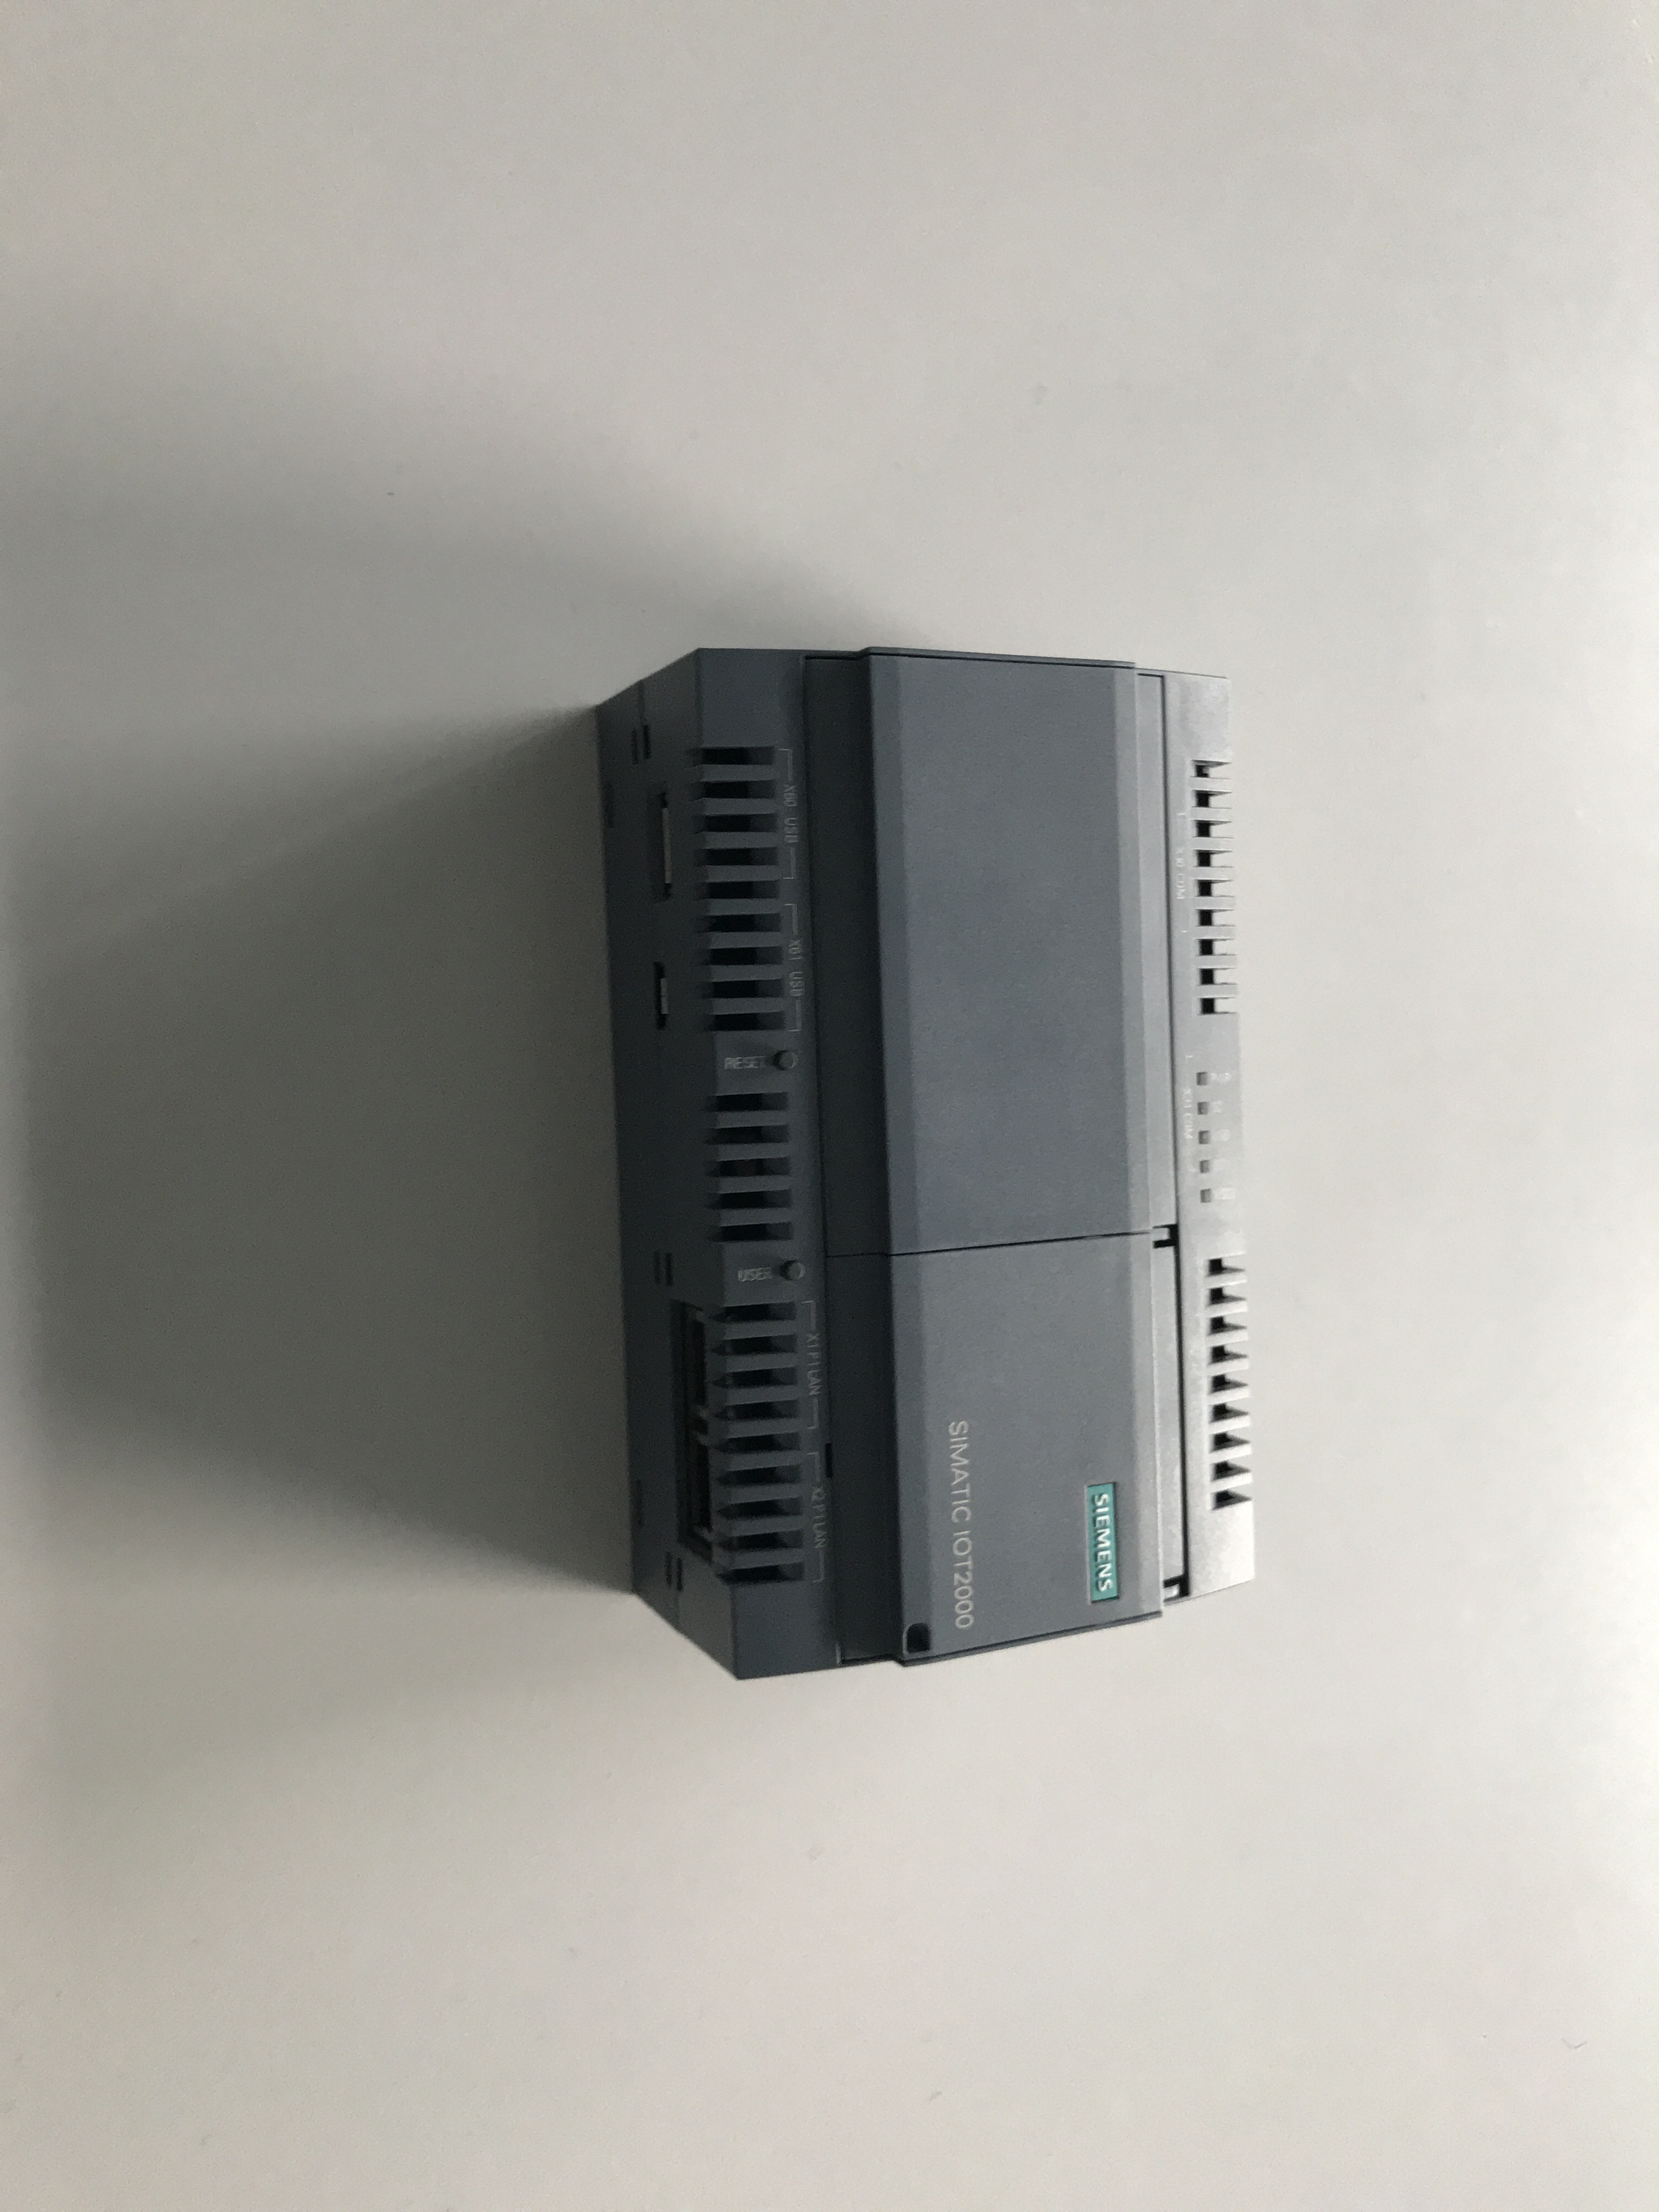device: (591, 646, 1256, 1684)
